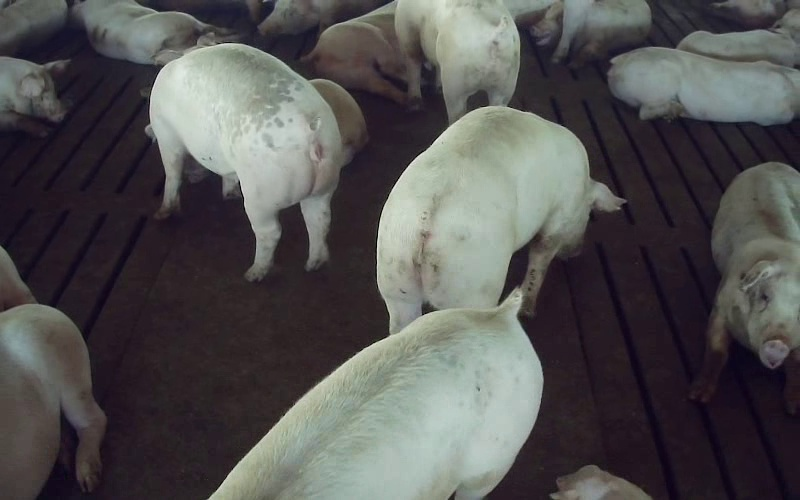pig: (210, 290, 540, 499), (377, 106, 624, 333), (150, 46, 342, 279), (689, 162, 799, 413), (395, 0, 519, 123), (608, 47, 799, 125), (73, 0, 212, 63), (677, 29, 799, 66)
